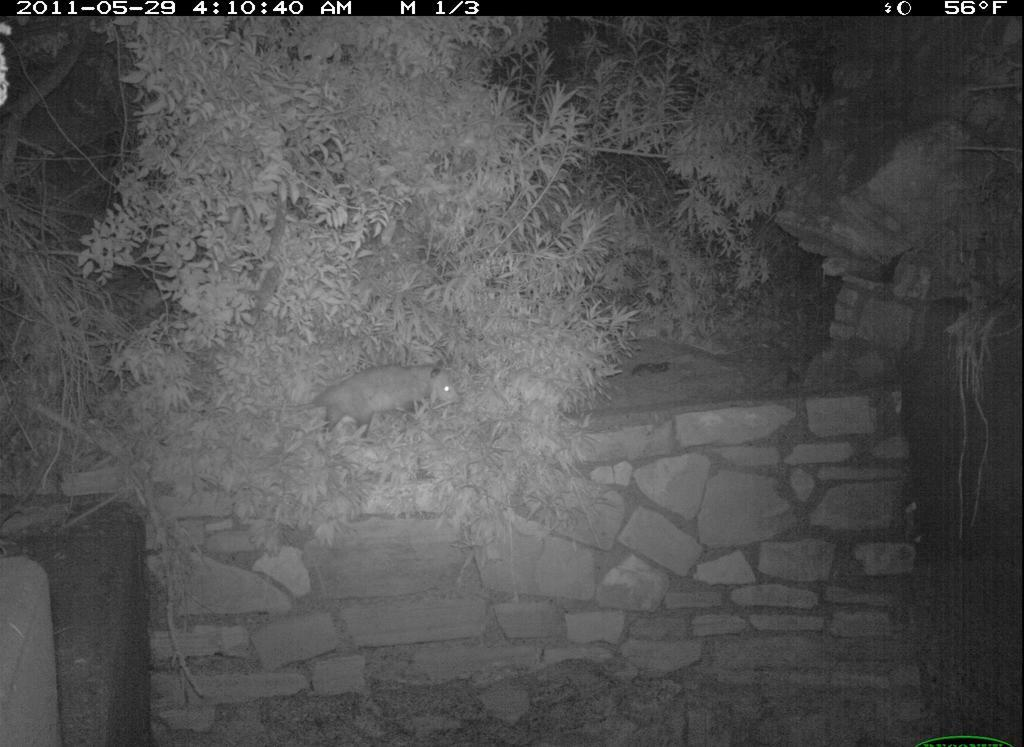opossum: (272, 357, 475, 452)
